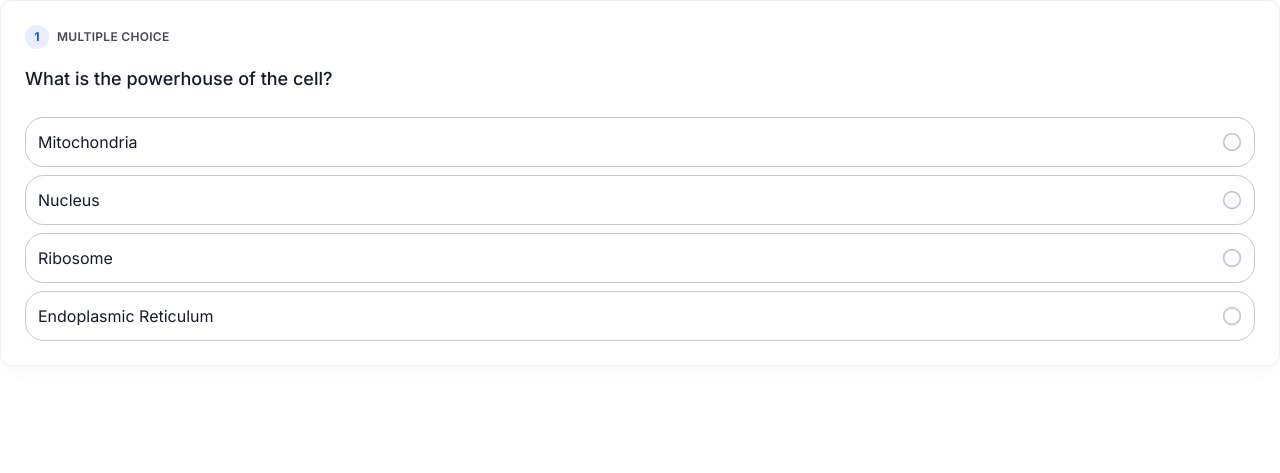
Test: QuestionCard Component › evaluates correct multiple choice selection and shows explanation
Click the button "Mitochondria": (88, 142) x1=25 y1=117 x2=1255 y2=167
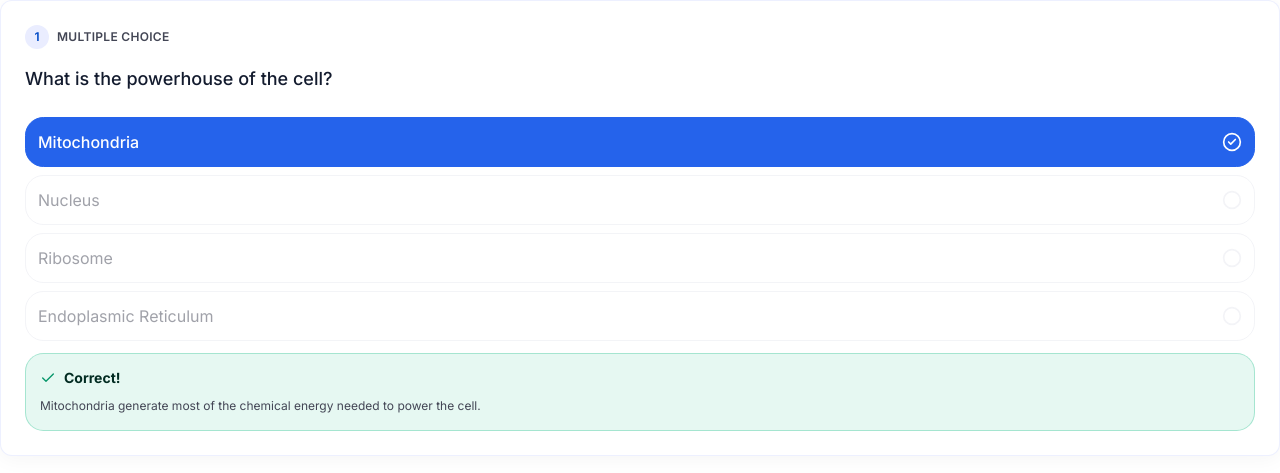
Result: the text "Correct!" is shown at x1=64 y1=368 x2=120 y2=388
Result: the text "Mitochondria generate most of the chemical energy needed to power the cell." is shown at x1=40 y1=398 x2=481 y2=413
